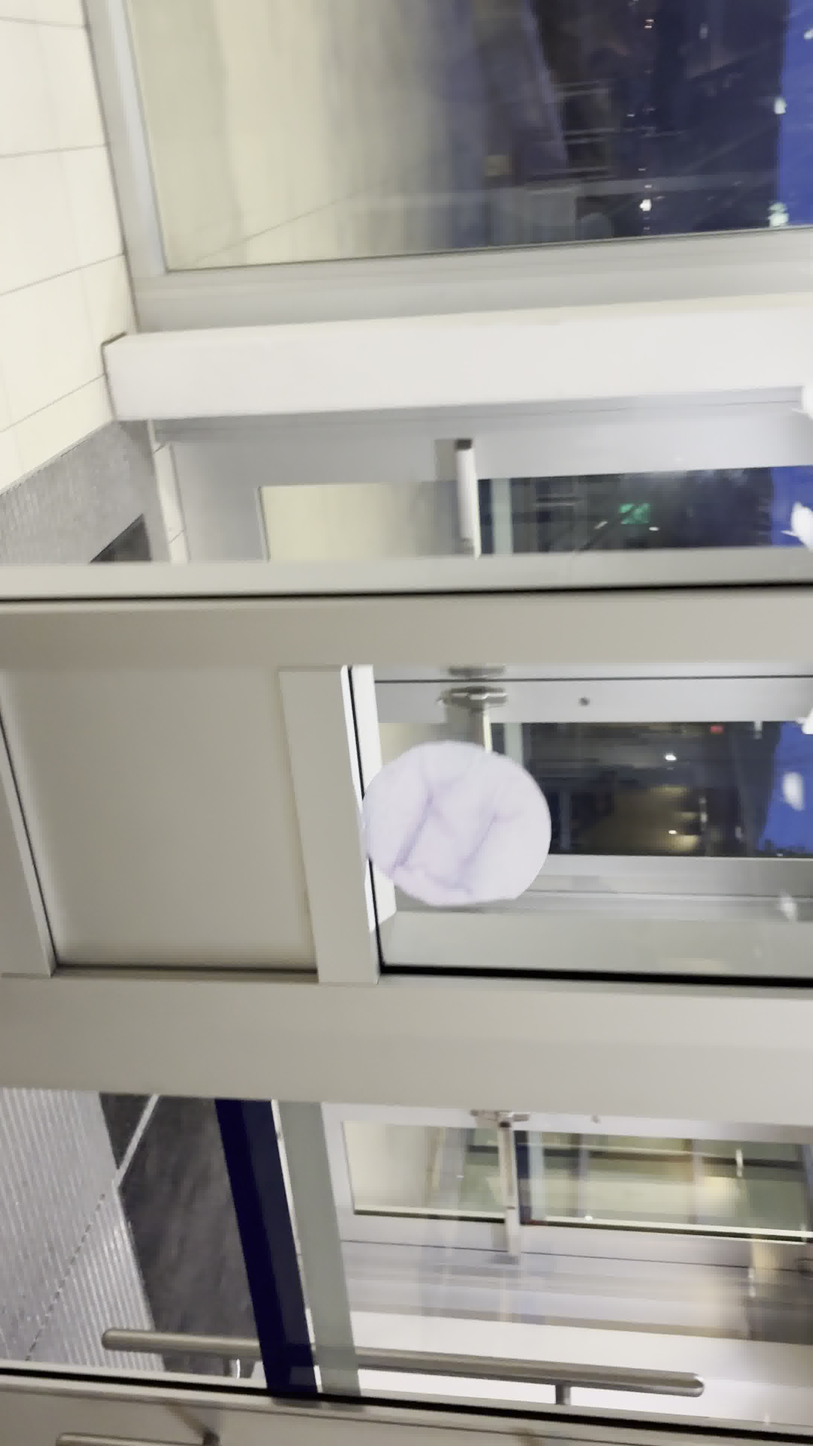Target: (360, 736, 554, 921)
